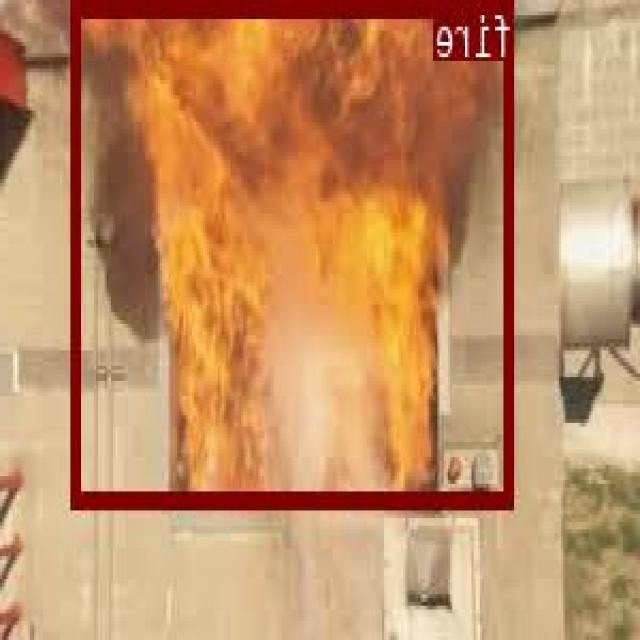fire: (75, 0, 514, 503)
